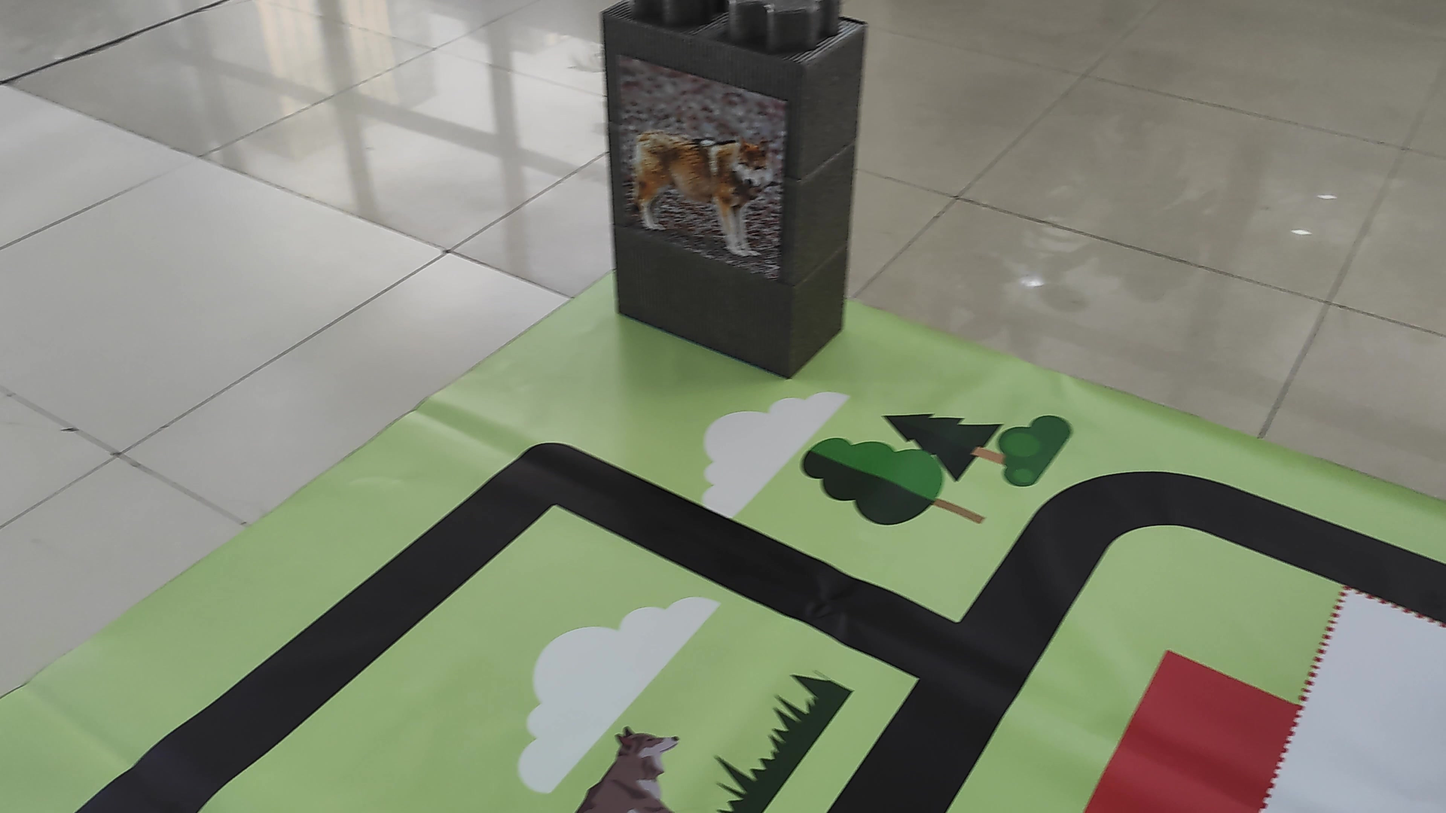wolf: (616, 61, 781, 270)
